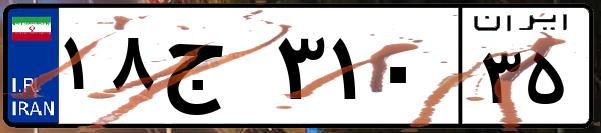0: (385, 28, 445, 110)
1: (330, 28, 385, 110), (57, 26, 110, 100)
3: (270, 28, 330, 110), (475, 38, 525, 113)
5: (525, 38, 570, 115)
8: (110, 28, 158, 98)
ج: (158, 20, 270, 120)
